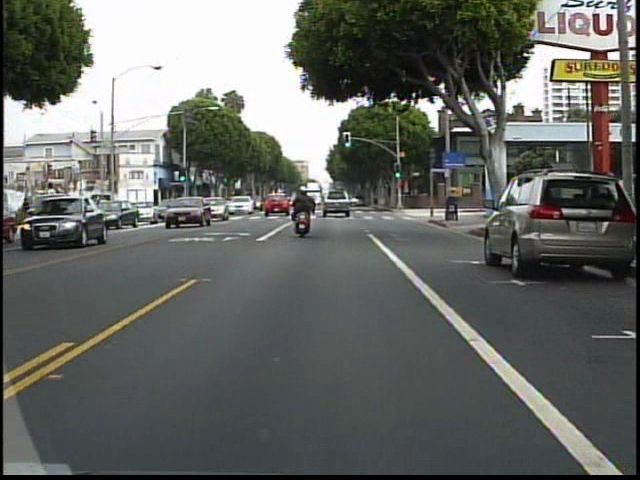person: (289, 182, 321, 236)
